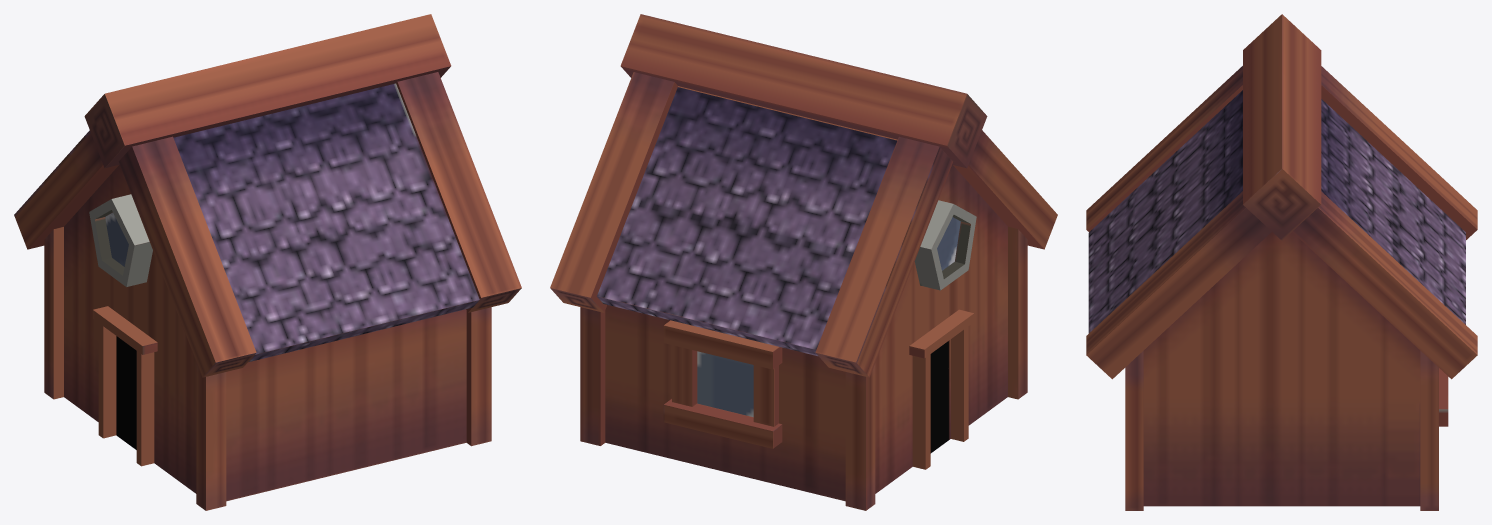
The model's file is House_Model.fbx.
The picture shows the model from 3 angles, left to right: view 1: azimuth 30°, elevation 25°; view 2: azimuth 150°, elevation 25°; view 3: azimuth 270°, elevation 25°; orthographic projection. The views are drawn at different scales.
Visible parts, largest first — view 1: House; view 2: House; view 3: House.
Part boxes in pixels (x1=…): House: x1=14, y1=14, x2=521, y2=510; House: x1=550, y1=14, x2=1057, y2=510; House: x1=1086, y1=14, x2=1477, y2=510.
Bounding box in the file's own units: 925 × 983 × 990.
Materials: 1 (1 with a texture image).
